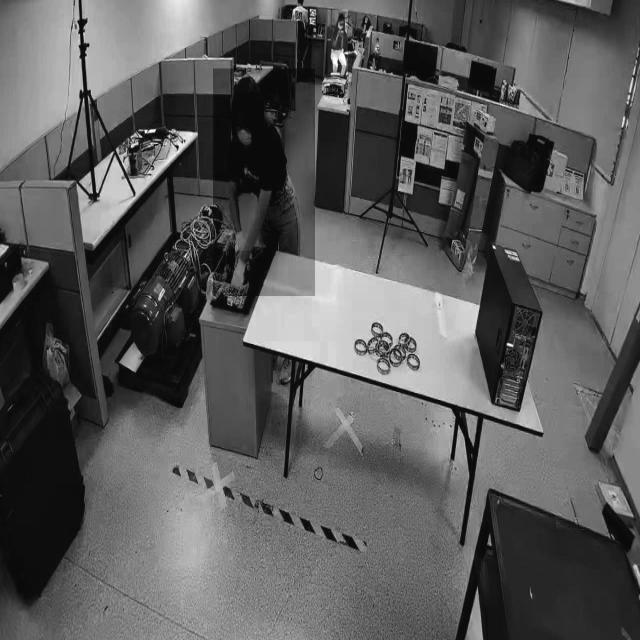face_mask: (234, 92, 260, 153)
hand_glove: (228, 251, 254, 297)
head_nohelmet: (234, 74, 260, 93), (338, 12, 345, 20)
person: (213, 68, 315, 297), (327, 10, 348, 76)
